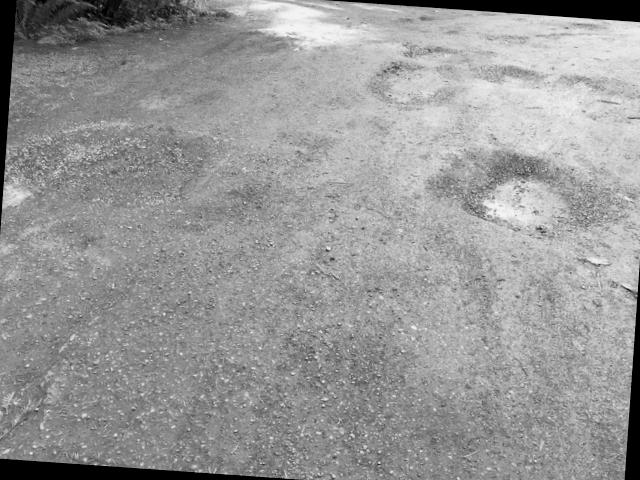Pothole: (446, 151, 620, 261), (372, 35, 476, 135)
